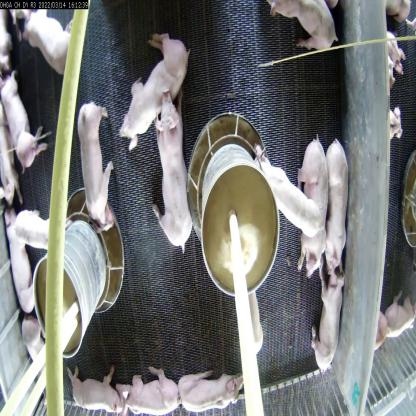Pig: (115, 23, 187, 150), (149, 88, 192, 244), (252, 166, 326, 242), (0, 66, 51, 172), (78, 103, 116, 233), (324, 140, 359, 260), (299, 151, 331, 279), (2, 214, 42, 316), (64, 356, 129, 416), (22, 10, 78, 78), (275, 0, 339, 57), (311, 275, 344, 374), (178, 368, 240, 415), (117, 373, 181, 415), (11, 210, 60, 260)
